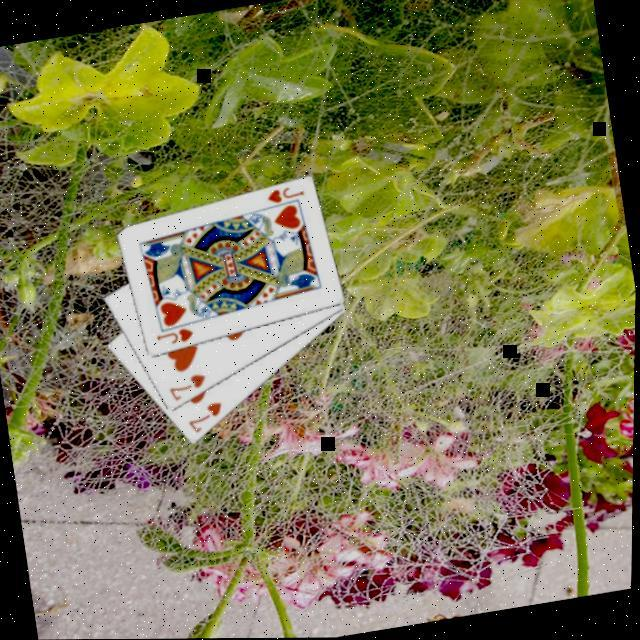7H: (183, 397, 230, 437), (166, 368, 213, 404)
JH: (264, 181, 309, 207), (154, 323, 198, 348)
